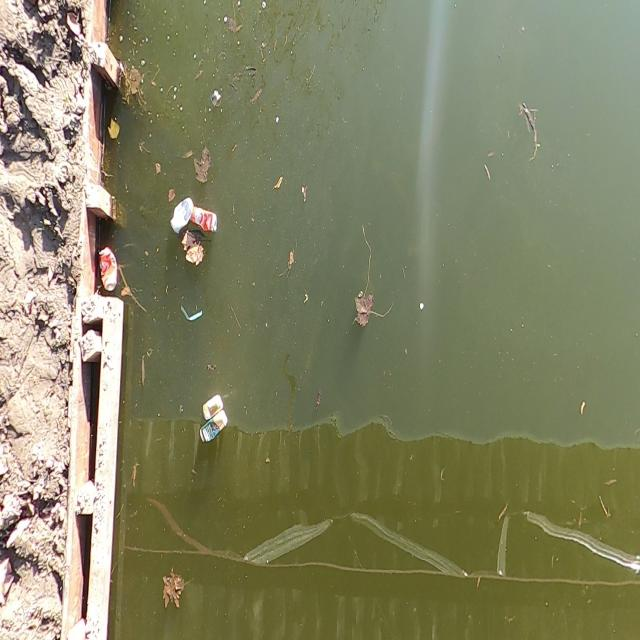Non plastique: (194, 371, 233, 425), (187, 406, 229, 449), (96, 245, 122, 293), (165, 196, 192, 239), (190, 202, 222, 234)
